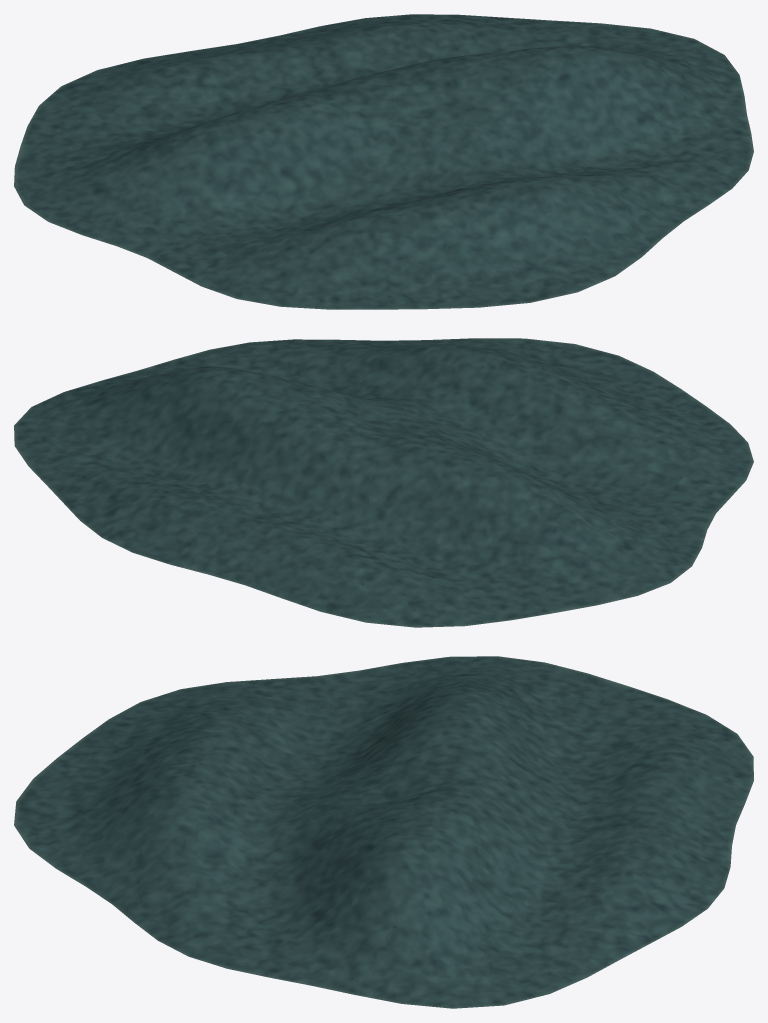
The model's file is underworld-ground-blackwater-silt-ripples.glb.
3 renders of one model, top to bottom at view 1: azimuth 30°, elevation 25°; view 2: azimuth 150°, elevation 25°; view 3: azimuth 270°, elevation 25°, orthographic. The views are drawn at different scales.
Parts seen in each view (by area): view 1: wind-deposit; view 2: wind-deposit; view 3: wind-deposit.
Boxes of the visible parts, x1,y1,x2,y2 form: wind-deposit: (14, 14, 753, 309); wind-deposit: (14, 338, 753, 627); wind-deposit: (14, 656, 753, 1008).
Size of the model in its own units: 3.93 by 0.4279 by 3.48.
Materials: 1 (1 with a texture image).
